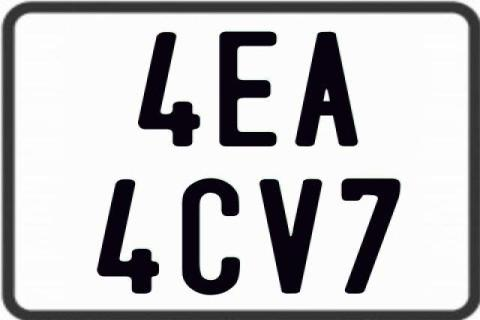0: (137, 30, 203, 150), (96, 179, 159, 297), (339, 178, 401, 294)
A: (292, 32, 358, 146)
C: (179, 177, 238, 297)
E: (218, 30, 281, 148)
V: (260, 178, 324, 296)
